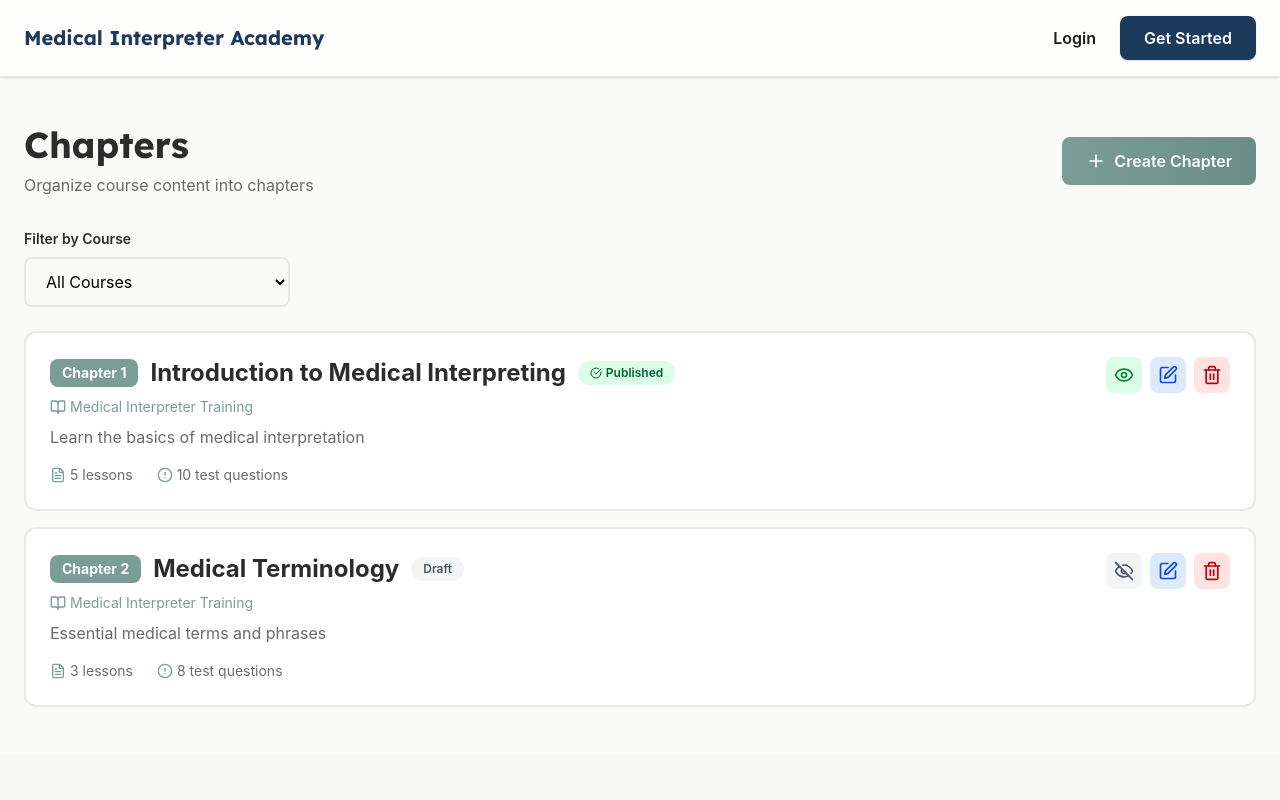
AdminChapters Page › Create Chapter Modal › should open create modal when button clicked
The image size is (1280, 800).
Click the button "Create Chapter" at x=1159, y=161, box [1062,137,1256,185]
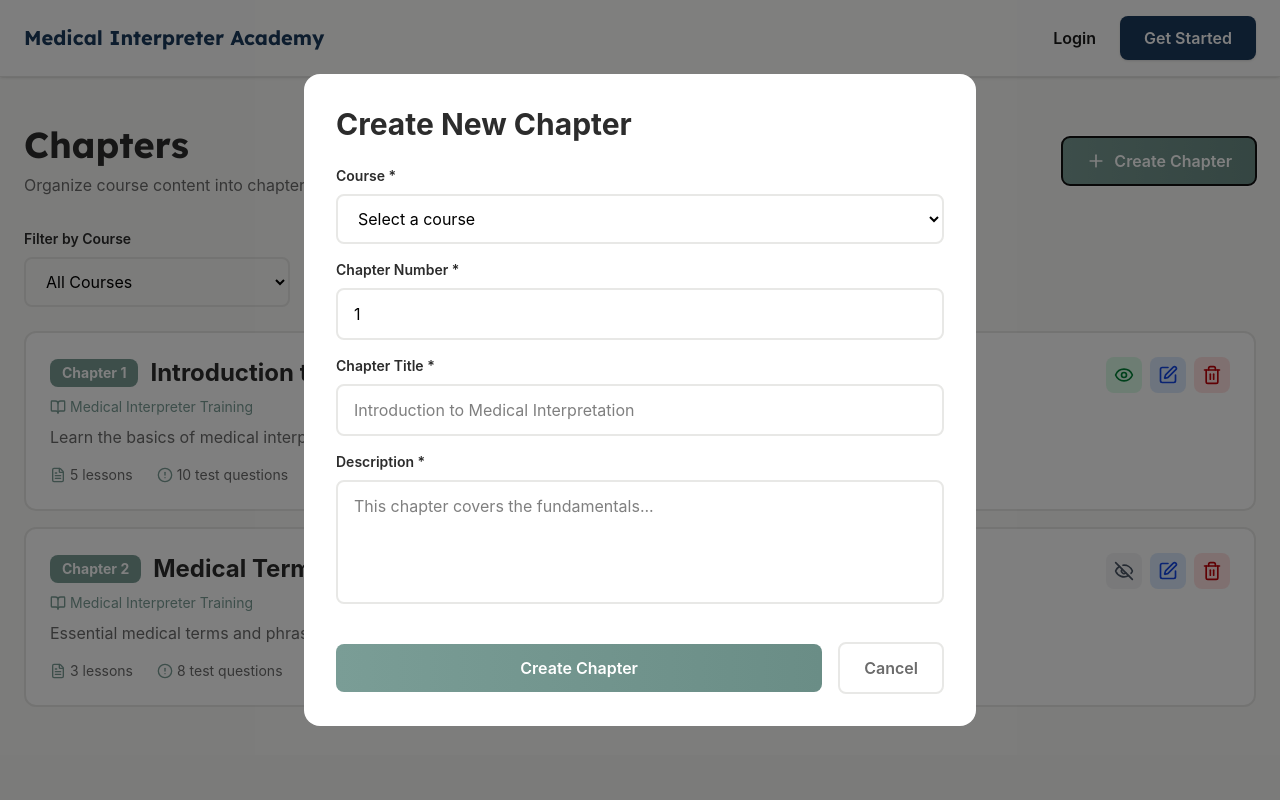
Check: the heading "Create New Chapter" is shown, box [336,106,632,142]
